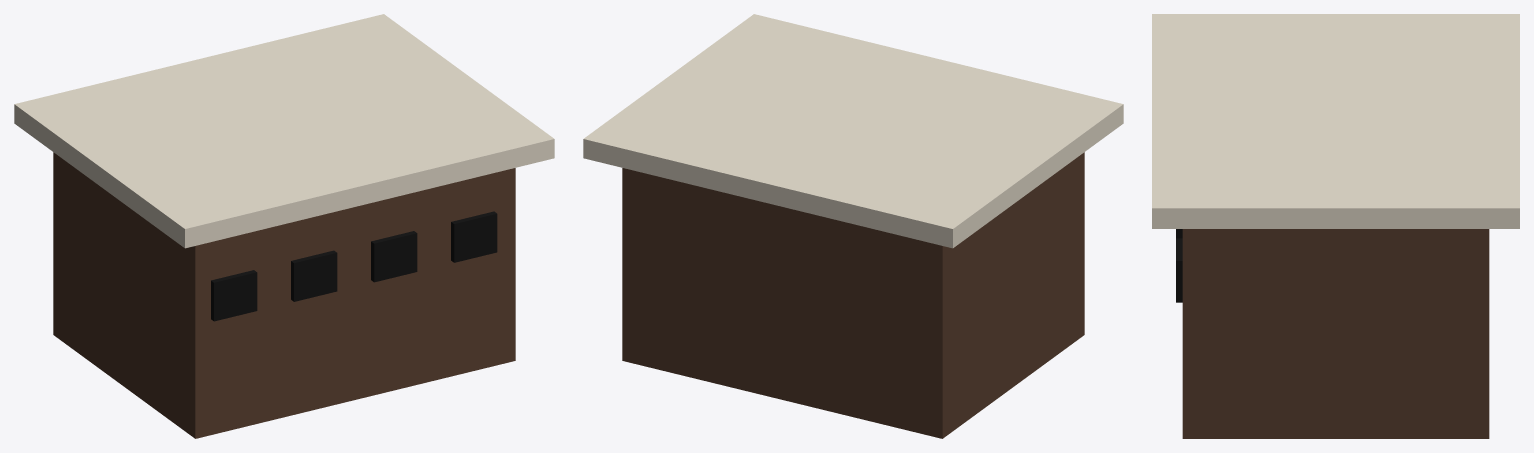
Rendered from Detail_-10_-40.glb.
The picture shows the model from 3 angles, left to right: view 1: azimuth 30°, elevation 25°; view 2: azimuth 150°, elevation 25°; view 3: azimuth 270°, elevation 25°; orthographic projection. The views are drawn at different scales.
Parts seen in each view (by area): view 1: Detail_-10_-40; view 2: Detail_-10_-40; view 3: Detail_-10_-40.
Part boxes in pixels (x1=…): Detail_-10_-40: x1=14, y1=14, x2=554, y2=438; Detail_-10_-40: x1=583, y1=14, x2=1123, y2=438; Detail_-10_-40: x1=1152, y1=14, x2=1519, y2=438.
Size of the model in its own units: 3 by 1.76 by 2.4.
